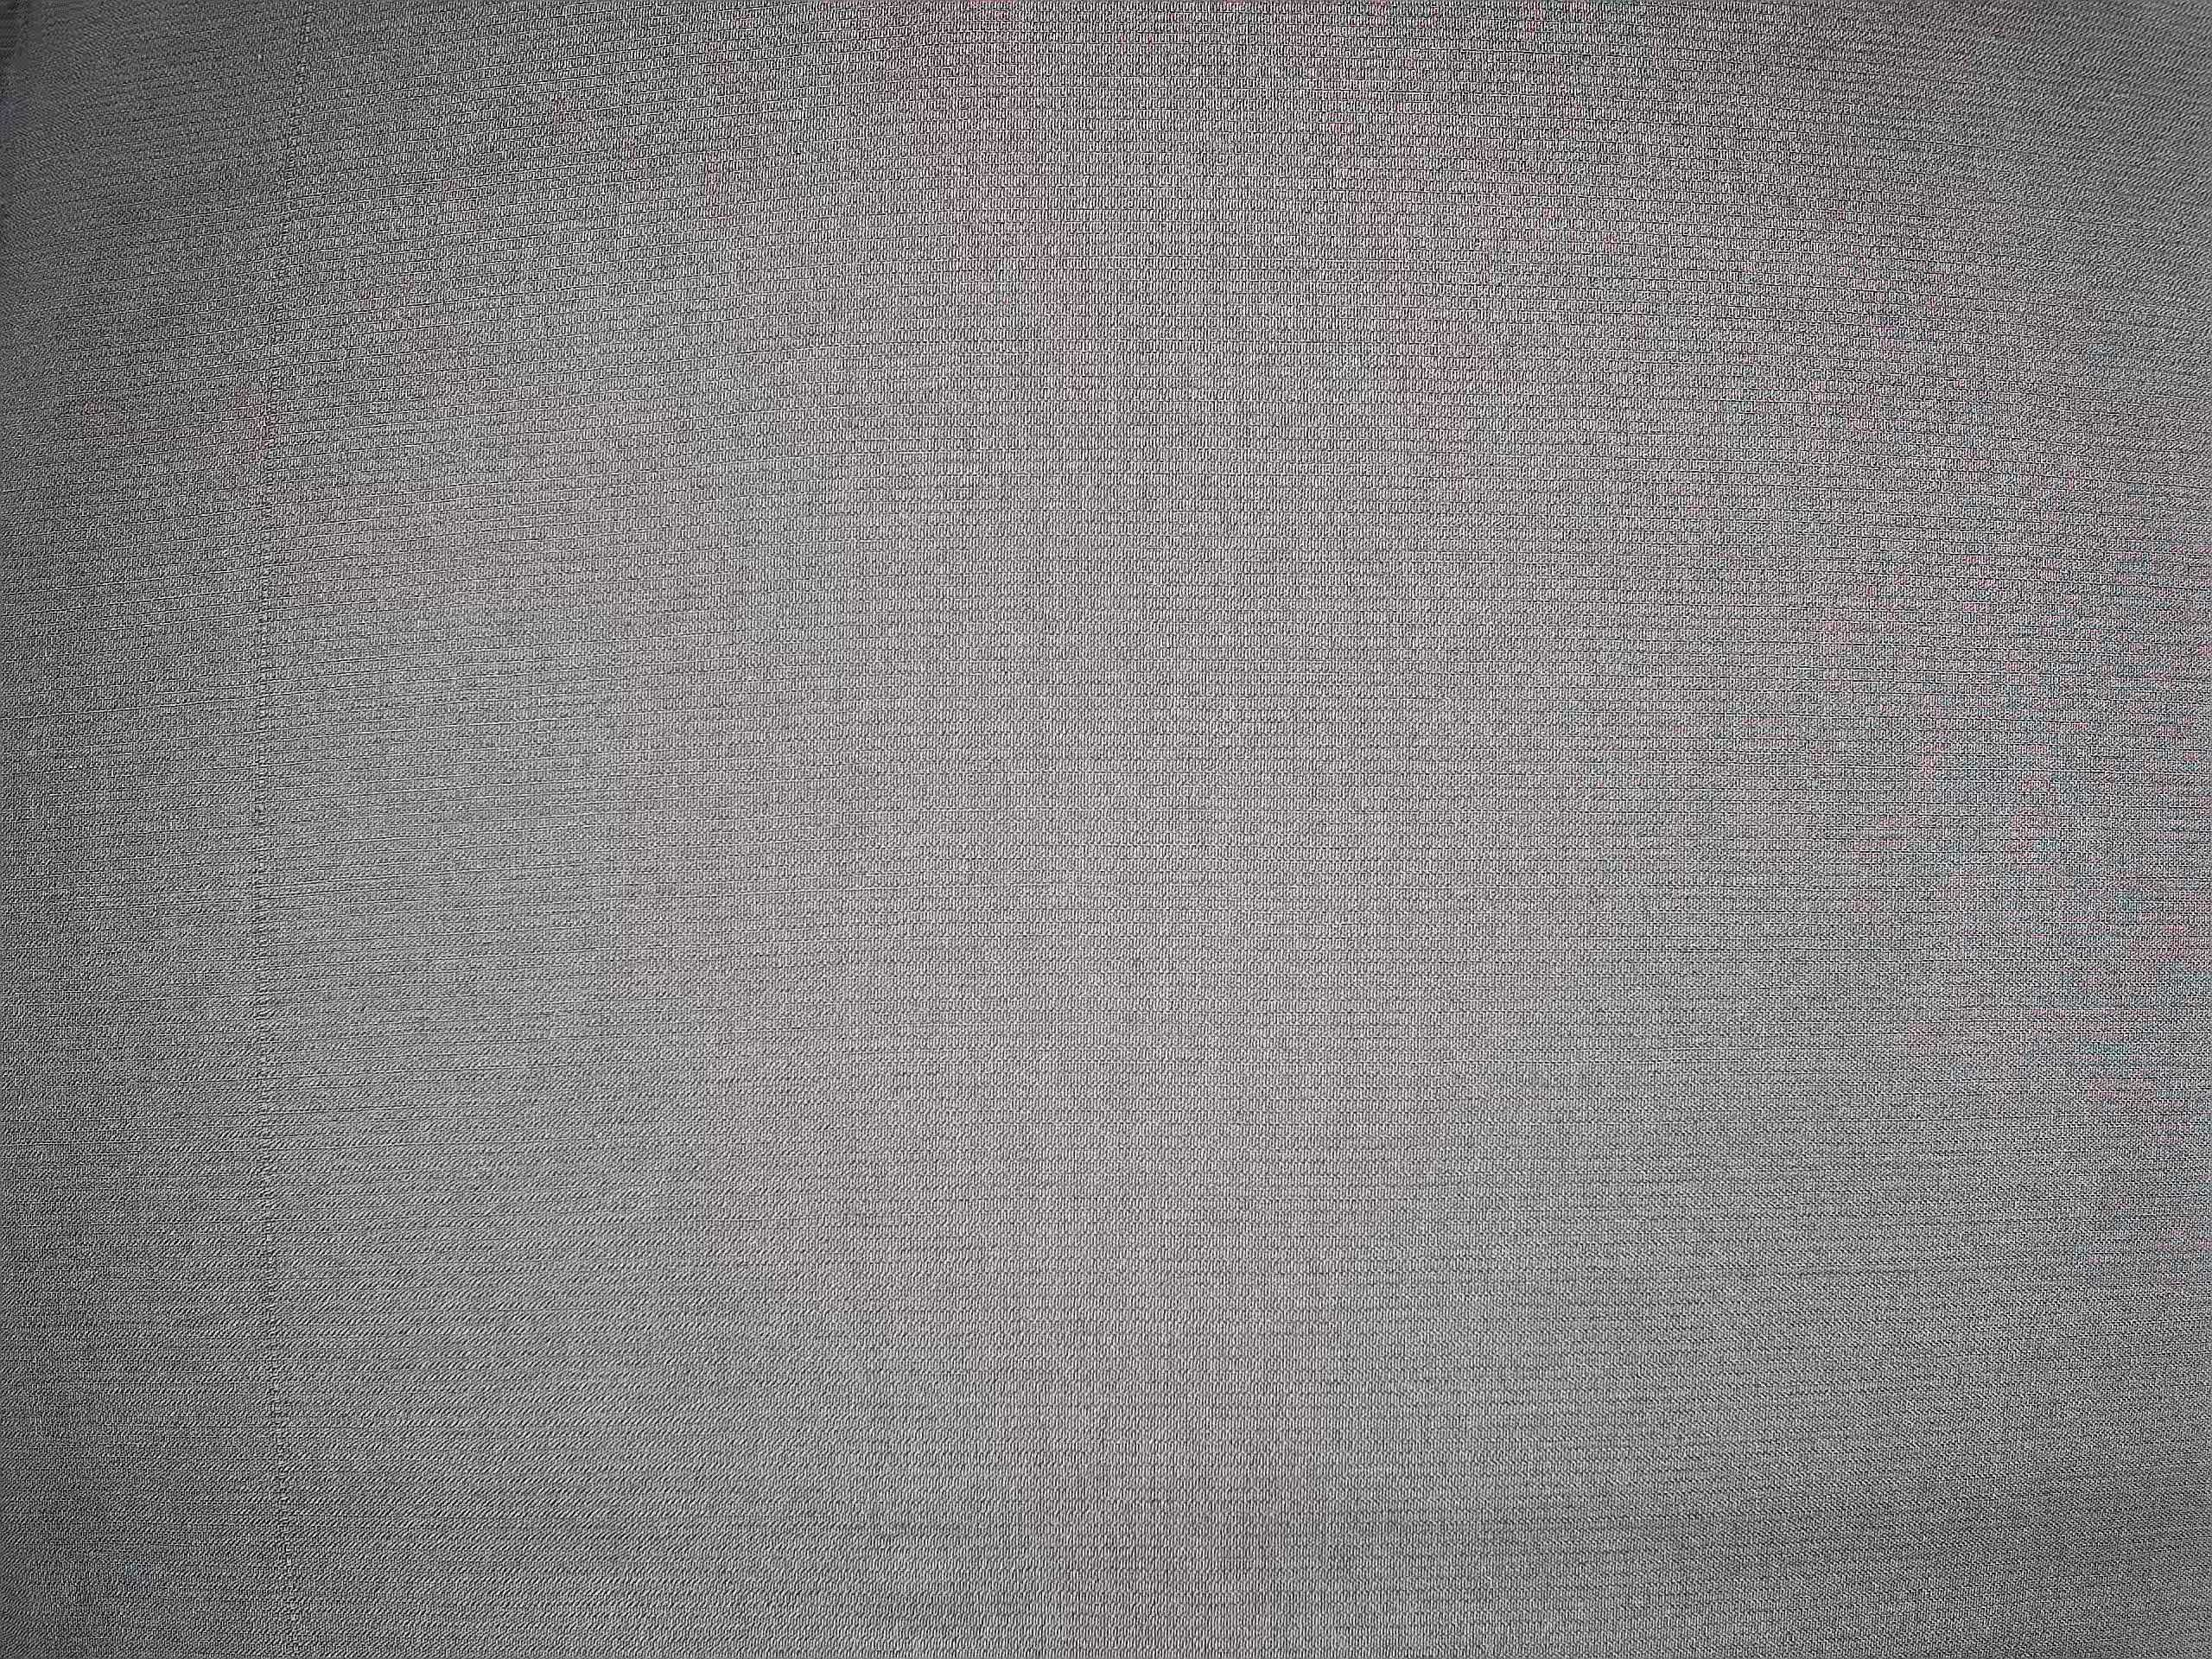lacking-warp: (242, 5, 327, 1642)
